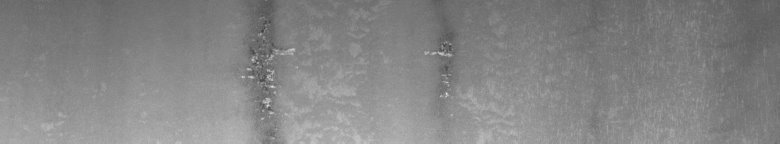hc: (240, 12, 301, 136)
